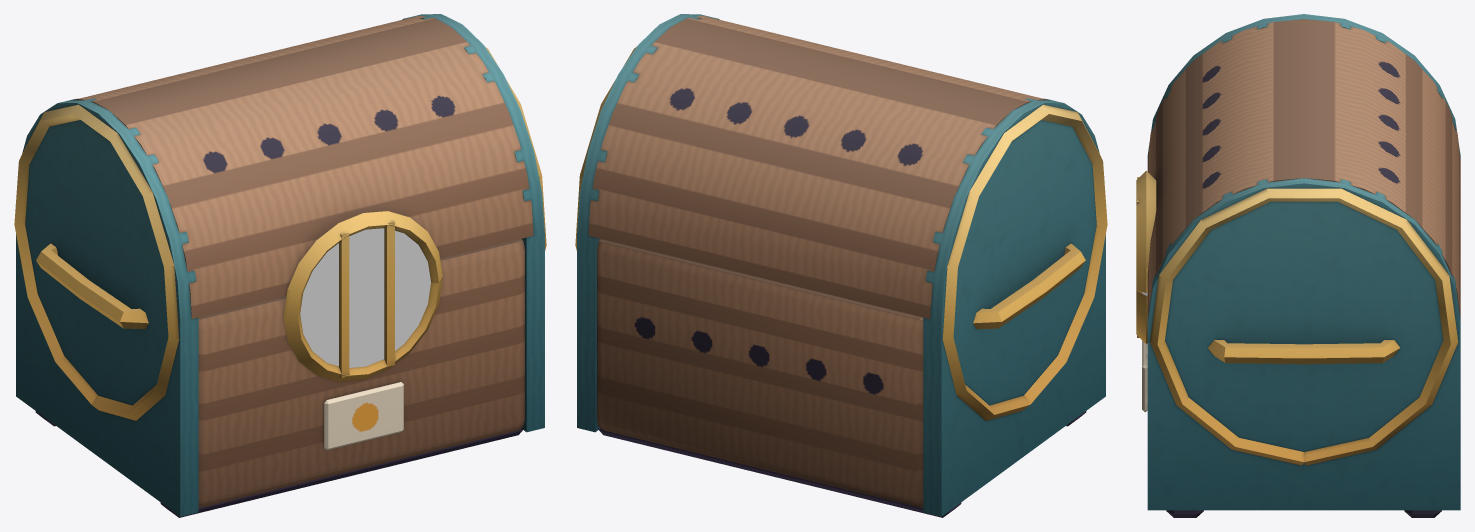
The model's file is item_critter_crate.fbx.
The picture shows the model from 3 angles, left to right: view 1: azimuth 30°, elevation 25°; view 2: azimuth 150°, elevation 25°; view 3: azimuth 270°, elevation 25°; orthographic projection. The views are drawn at different scales.
Parts seen in each view (by area): view 1: item_critter_crate, item_critter_crate_glow; view 2: item_critter_crate; view 3: item_critter_crate.
Boxes of the visible parts, bbox=[...] form: item_critter_crate: bbox=[14, 14, 546, 517]; item_critter_crate_glow: bbox=[300, 228, 430, 367]; item_critter_crate: bbox=[575, 14, 1107, 517]; item_critter_crate: bbox=[1136, 14, 1460, 517].
Bounding box in the file's own units: 360 × 300 × 259.
2 materials, 1 textured.
